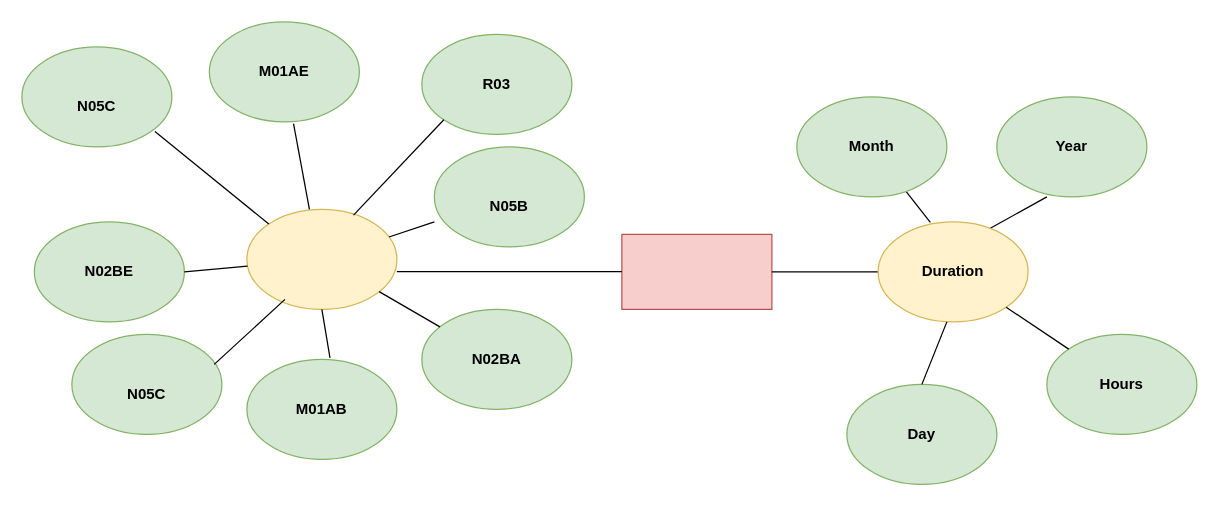
The diagram is 1219 pixels wide and 506 high, and some of its shapes have lost their labels. The centre of each missing label's shape, as x and y in pixels:
Order: the point at 696,271
Order_ID: the point at 321,258
